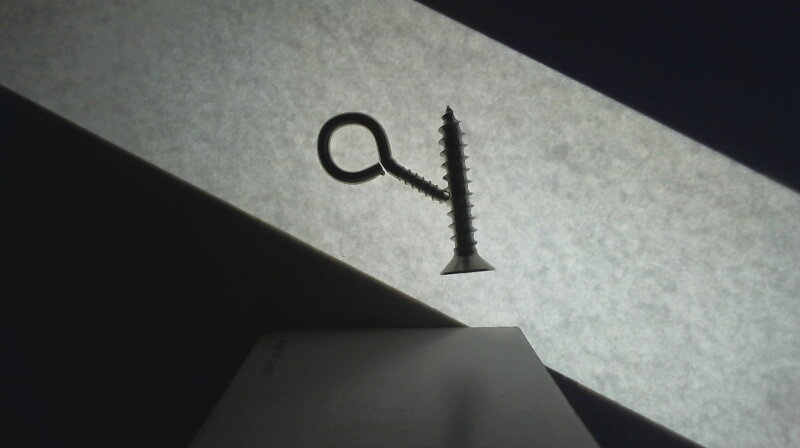O001: (315, 111, 452, 209)
S001: (438, 104, 500, 275)
